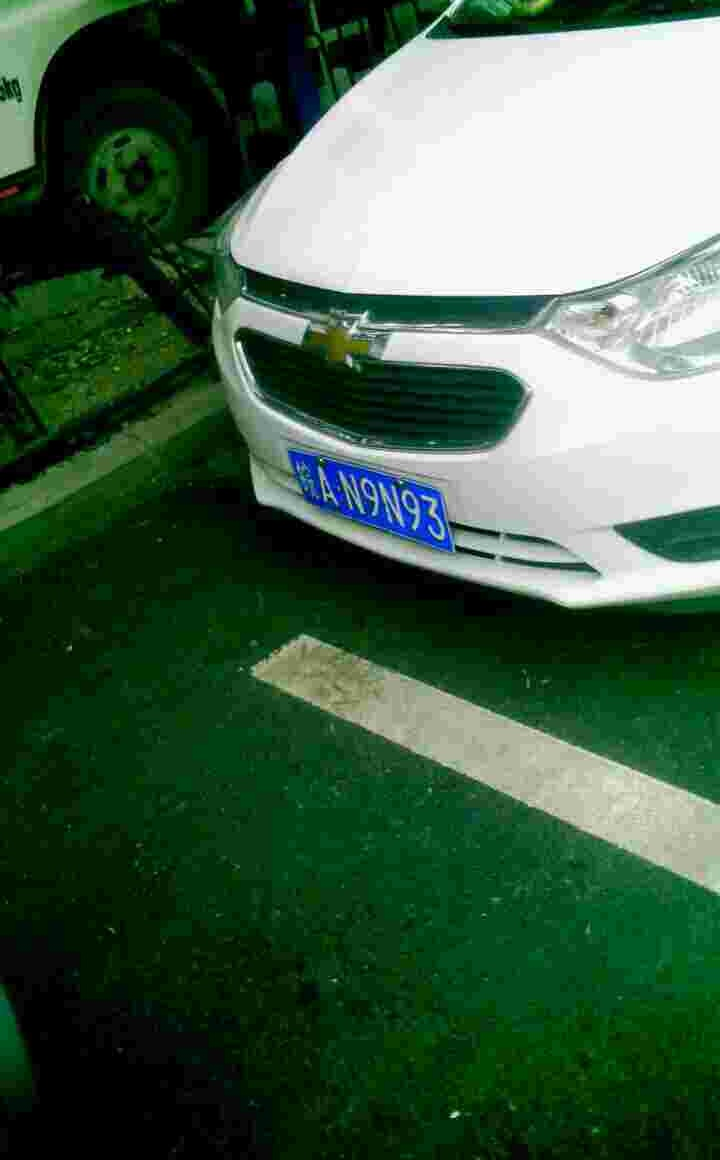plate: (282, 439, 462, 557)
